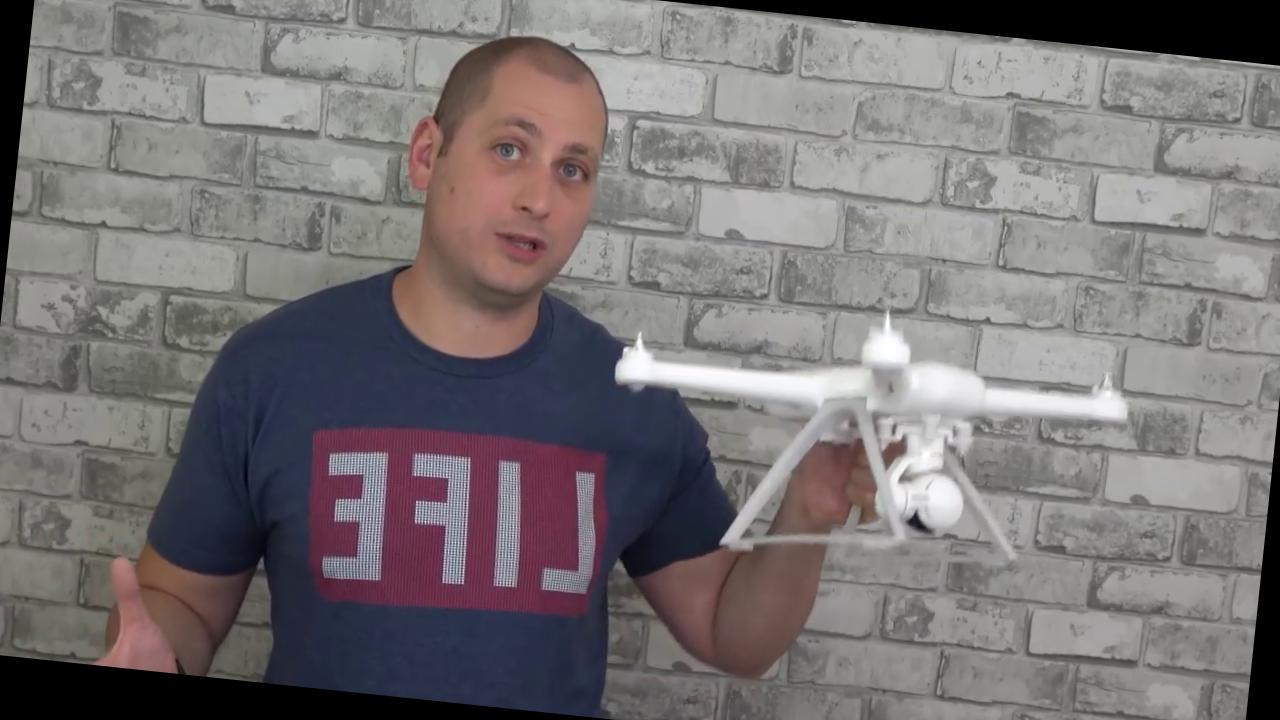drone: (590, 287, 1154, 521)
